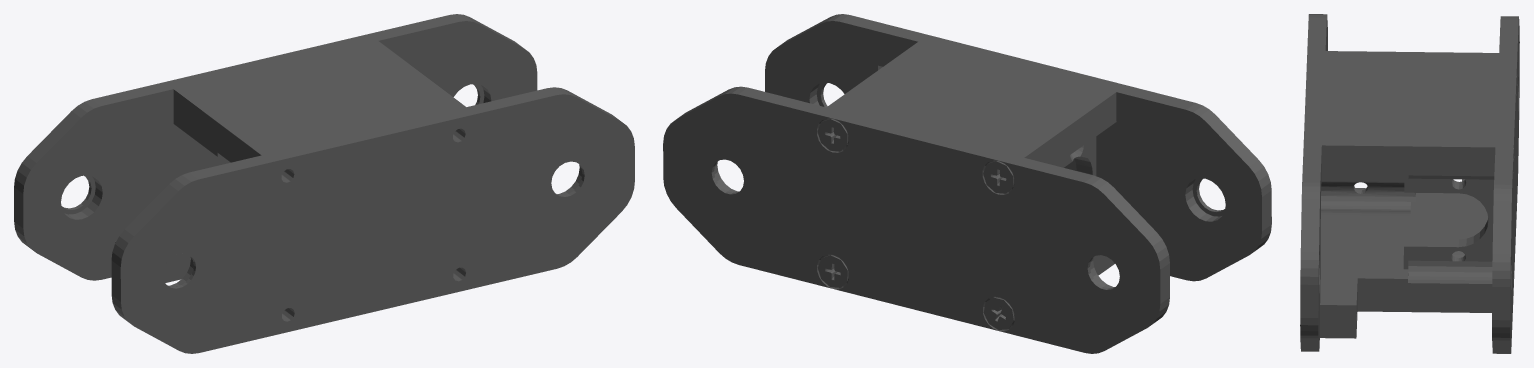
The model's file is thumb2.dae.
The picture shows the model from 3 angles, left to right: view 1: azimuth 30°, elevation 25°; view 2: azimuth 150°, elevation 25°; view 3: azimuth 270°, elevation 25°; orthographic projection. The views are drawn at different scales.
Parts seen in each view (by area): view 1: node; view 2: node; view 3: node.
Boxes of the visible parts, x1=… form: node: x1=14, y1=14, x2=634, y2=353; node: x1=663, y1=14, x2=1271, y2=353; node: x1=1300, y1=14, x2=1519, y2=353.
Bounding box in the file's own units: 0.0619 × 0.0201 × 0.024.
1 material, 1 textured.
